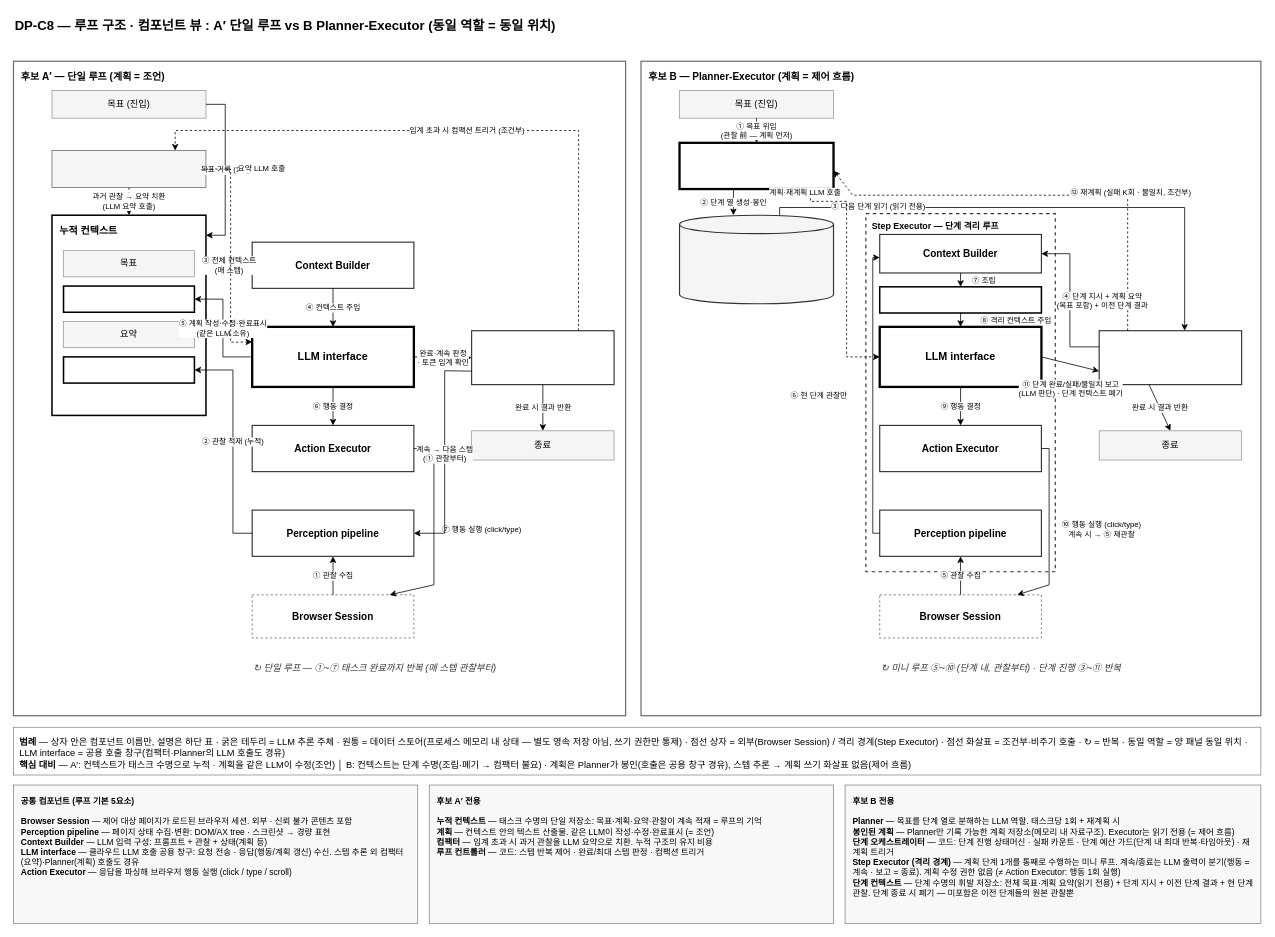
The diagram is 1275 pixels wide and 937 high, and some of its shapes have lost their labels. Here are the shapes that lost their labels. From the top down, the centre of each, then its label:
At point (128, 168): "컴팩터".
At point (756, 165): "Planner".
At point (756, 259): "봉인된 계획".
At point (128, 299): "계획".
At point (960, 299): "단계 컨텍스트".
At point (128, 369): "관찰".
At point (542, 357): "루프 컨트롤러".
At point (1170, 357): "단계 오케스트레이터".
